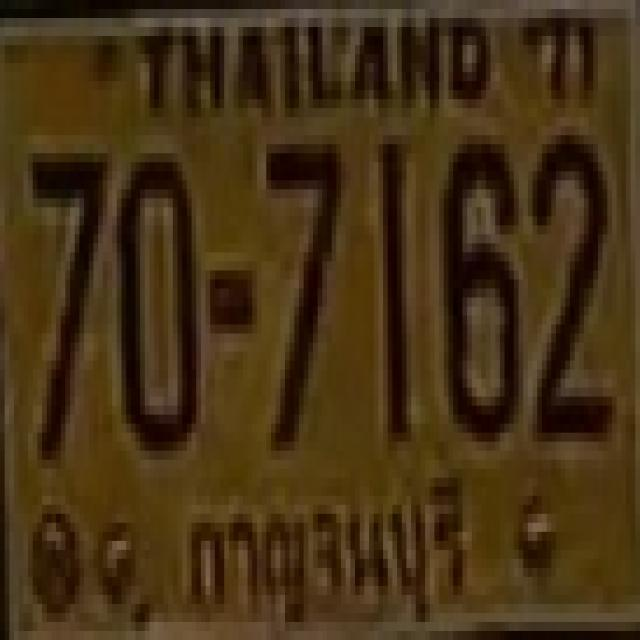0: (117, 149, 196, 446)
1: (378, 140, 402, 437)
2: (530, 126, 605, 433)
6: (439, 135, 514, 433)
7: (264, 135, 339, 442), (28, 144, 103, 451)
KRI: (186, 475, 475, 635)
